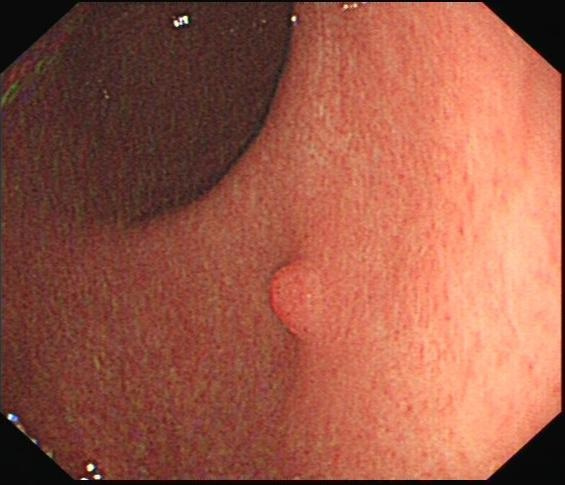Polyp: (259, 255, 336, 351)
